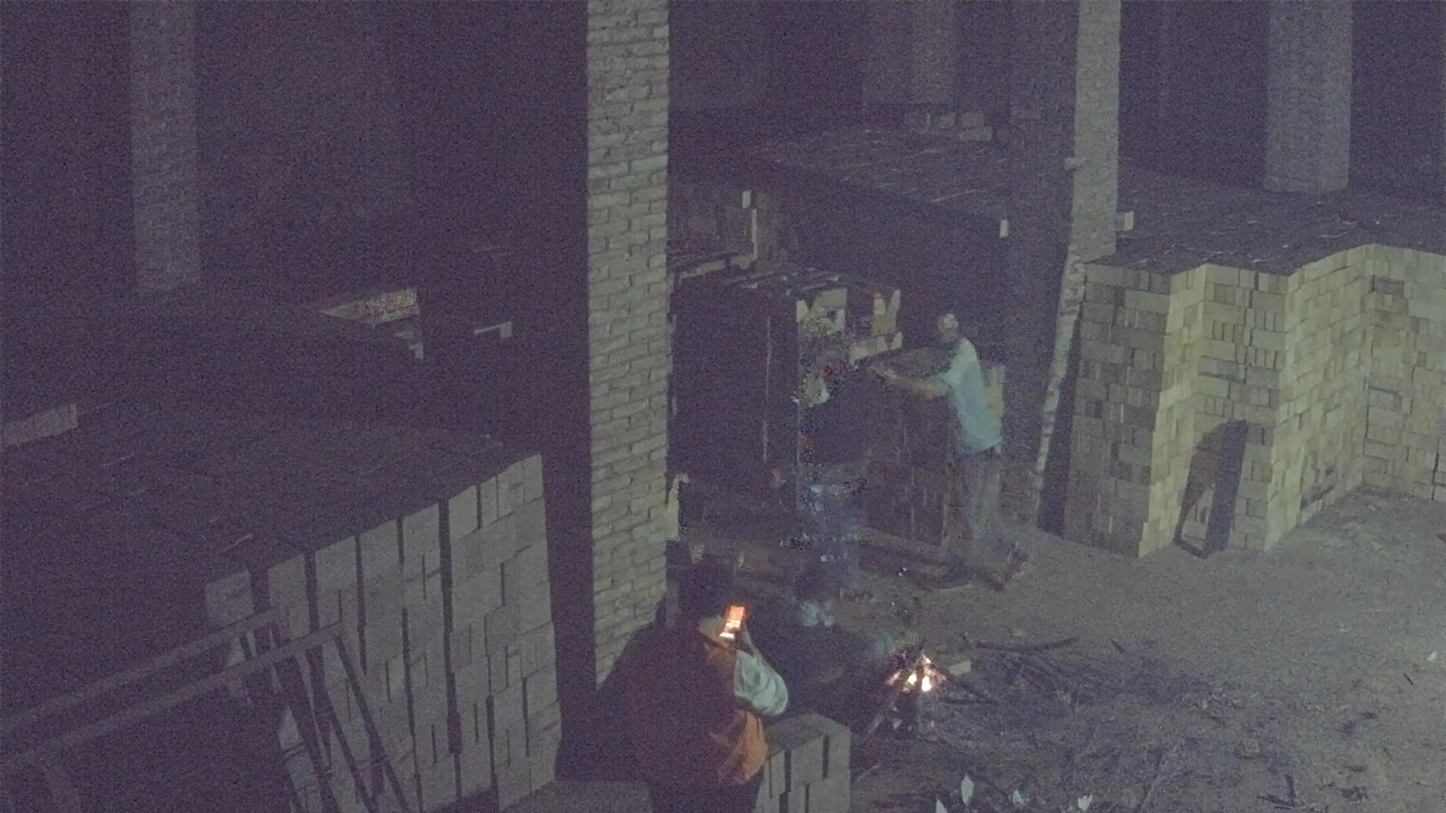fire: (888, 653, 947, 696)
